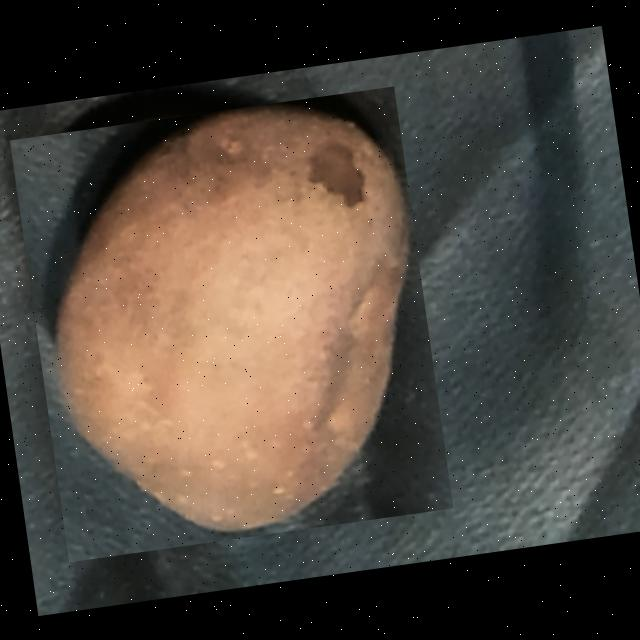Diseased-fungal potato: (9, 86, 453, 562)
